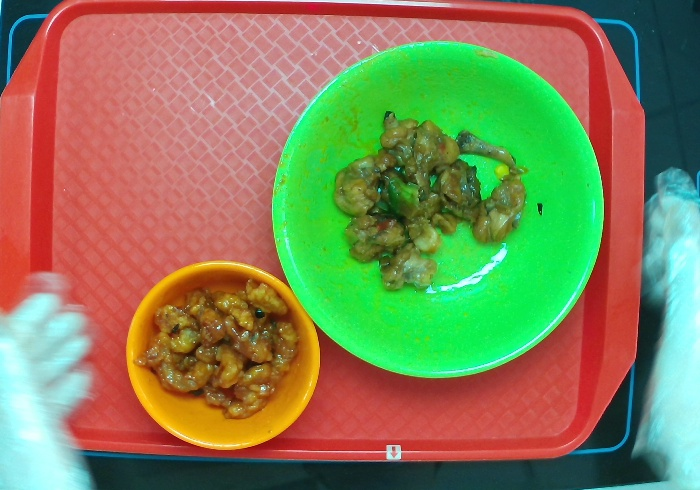YKMZ-Ju_Se_Yuan_Wan: (125, 259, 322, 453)
YKMZ-Lv_Se_Tang_Wan: (269, 37, 606, 381)
